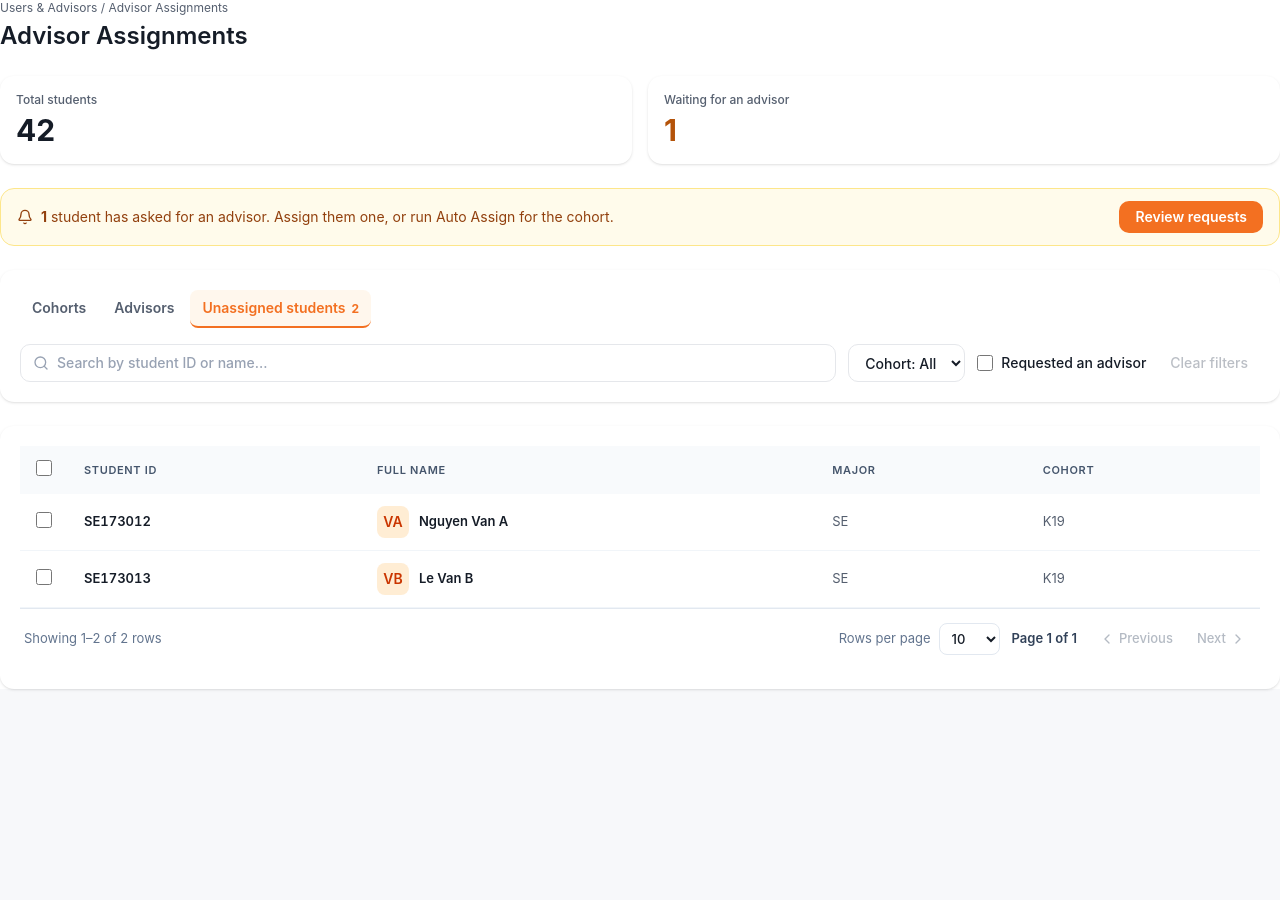
Test: AssignmentsOverview — unassigned students › hides the bulk action bar until a student is selected
Click the tab "Unassigned students2" at coordinates (281, 309), box [190, 290, 371, 328]
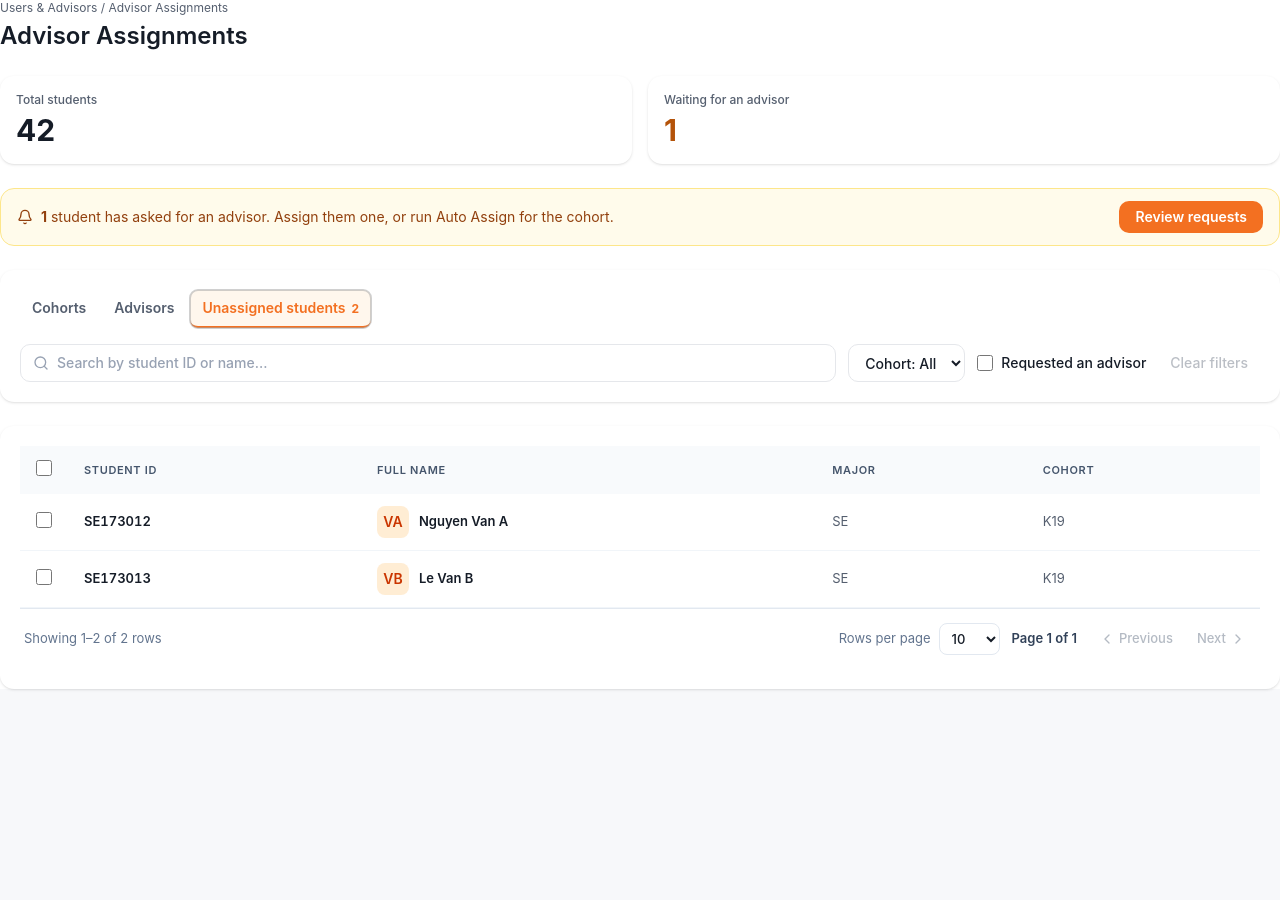
Expected: the text "SE173012" is shown, [84, 513, 151, 529]
Click the checkbox named "Select row 1" at coordinates (44, 520), box [36, 512, 52, 528]
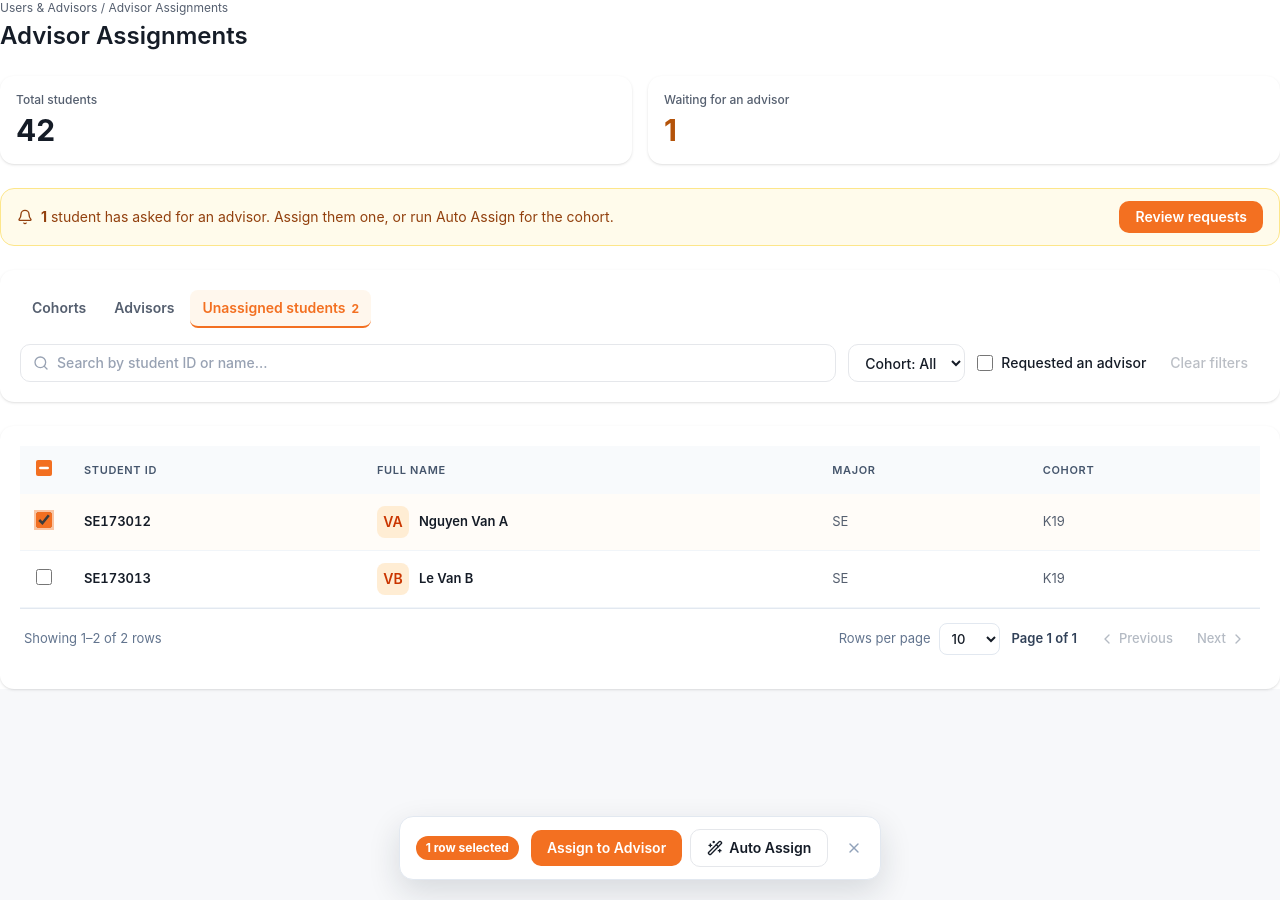
Result: the element named "Bulk actions" is shown at [399, 816, 881, 880]
Result: the text "1 row selected" is shown at [416, 836, 519, 860]
